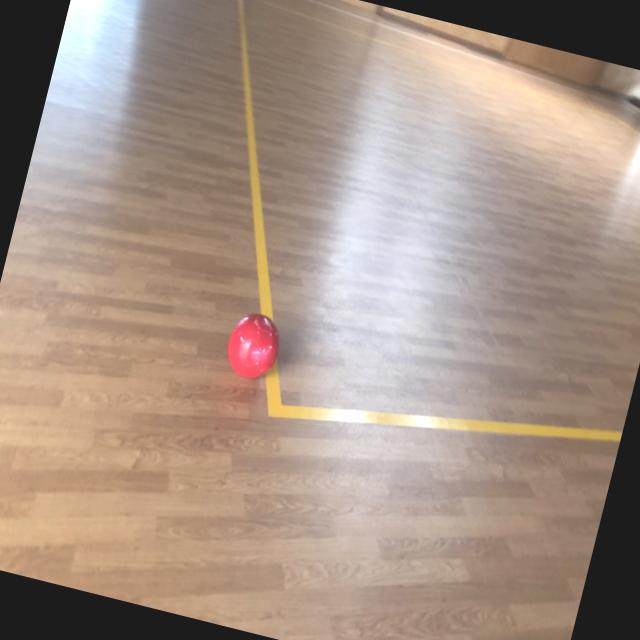red_ball: (220, 306, 286, 384)
